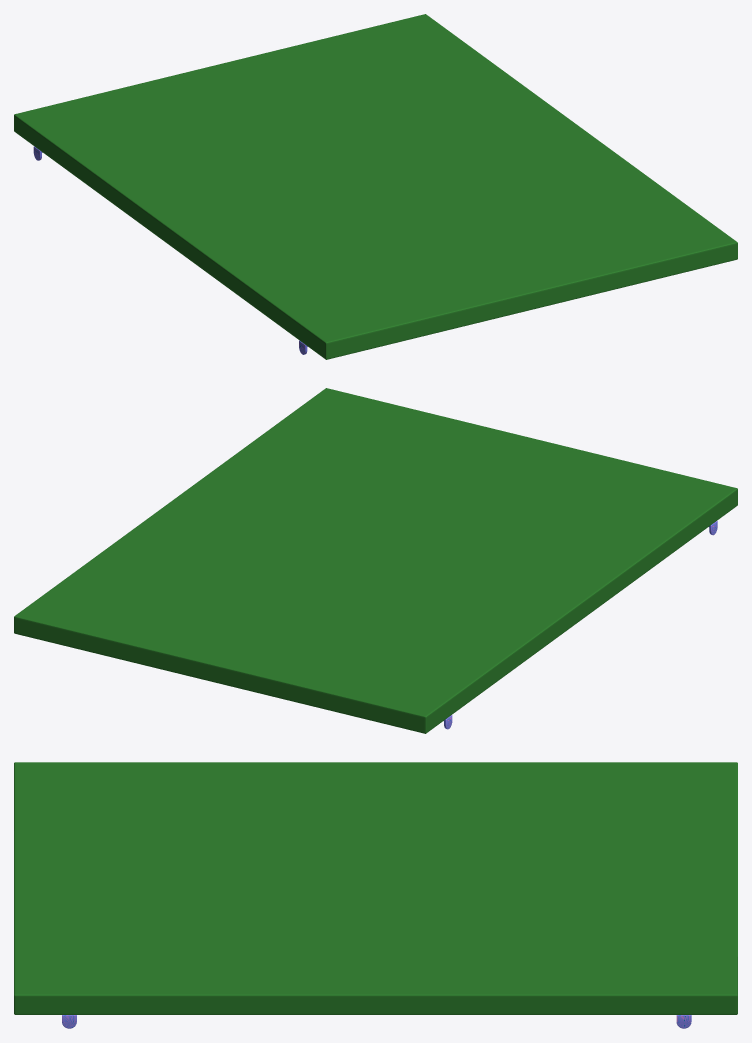
File: SM_Kitchen_02_Shelf.fbx
3 views of the same model, one above another, from view 1: azimuth 30°, elevation 25°; view 2: azimuth 150°, elevation 25°; view 3: azimuth 270°, elevation 25° (orthographic). The views are drawn at different scales.
Parts seen in each view (by area): view 1: SM_Kitchen_02_Shelf; view 2: SM_Kitchen_02_Shelf; view 3: SM_Kitchen_02_Shelf.
Part boxes in pixels (bbox=[...]): SM_Kitchen_02_Shelf: bbox=[14, 14, 737, 359]; SM_Kitchen_02_Shelf: bbox=[14, 388, 737, 733]; SM_Kitchen_02_Shelf: bbox=[14, 762, 737, 1028].
Size of the model in its own units: 36.8 by 2.49 by 48.29.
Materials: 2 (1 with a texture image).
